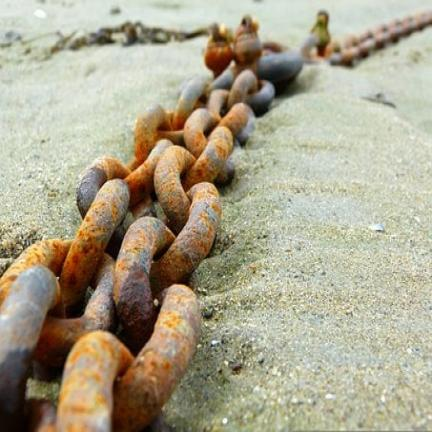karat: (0, 100, 254, 346)
